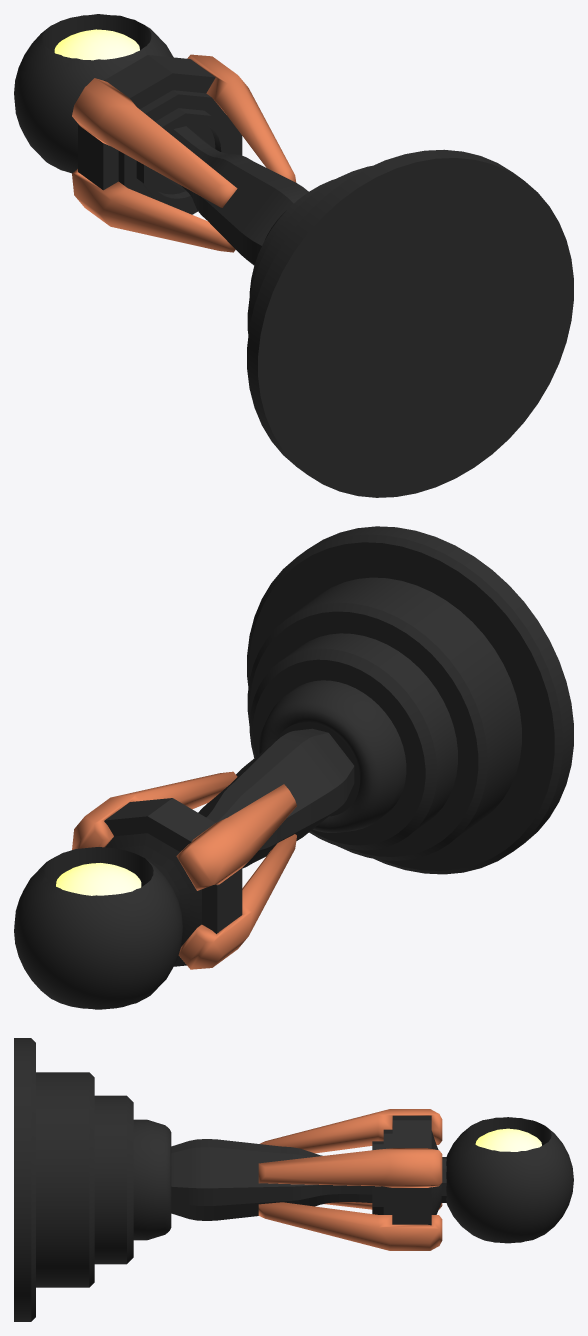
The model's file is PlasmaTower2.fbx.
The picture shows the model from 3 angles, top to bottom: view 1: azimuth 30°, elevation 25°; view 2: azimuth 150°, elevation 25°; view 3: azimuth 270°, elevation 25°; orthographic projection. The views are drawn at different scales.
Parts seen in each view (by area): view 1: Cylinder.002, Cylinder.004, Cylinder.001, Sphere, Cube.003, Slice; view 2: Cylinder.002, Sphere, Cylinder.004, Cube.003, Cylinder.001, Slice; view 3: Cylinder.002, Cylinder.004, Sphere, Cube.003, Cylinder.001, Slice.
Part boxes in pixels (x1,y1,x2,y2): Cylinder.002: (247,149,573,497); Cylinder.004: (72,54,296,252); Cylinder.001: (78,55,242,214); Sphere: (14,14,173,173); Cube.003: (164,126,308,265); Slice: (54,29,139,60); Cylinder.002: (247,526,573,874); Sphere: (14,847,182,1009); Cylinder.004: (72,771,296,969); Cube.003: (198,728,354,868); Cylinder.001: (104,798,242,966); Slice: (56,863,141,895); Cylinder.002: (14,1038,171,1321); Cylinder.004: (258,1109,442,1250); Sphere: (446,1117,573,1243); Cube.003: (171,1139,372,1220); Cylinder.001: (372,1115,446,1225); Slice: (475,1128,541,1151).
Size of the model in its own units: 1156 by 1159 by 2282.
